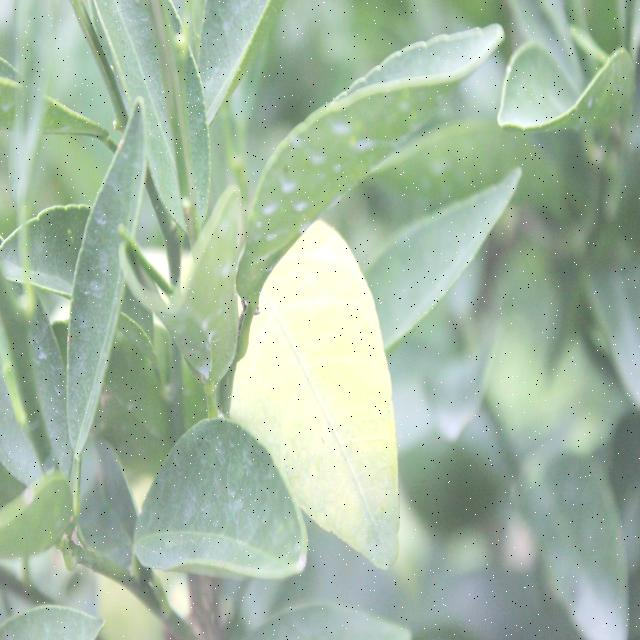greening: (248, 227, 396, 532)
